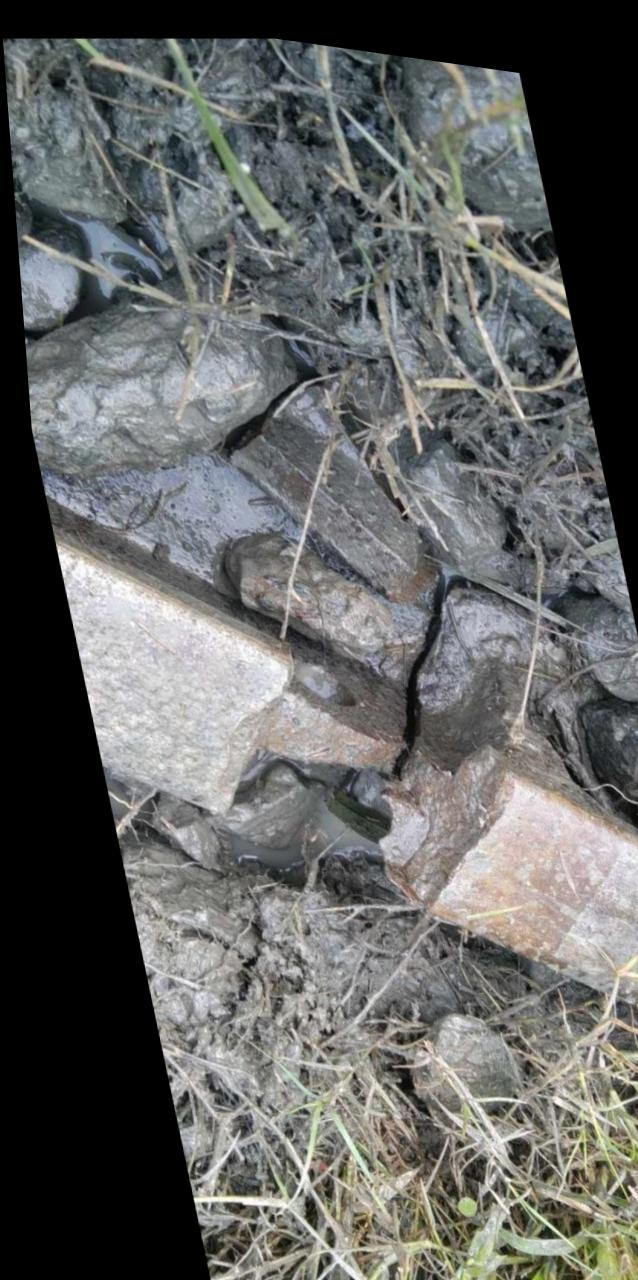person: (97, 432, 615, 986)
